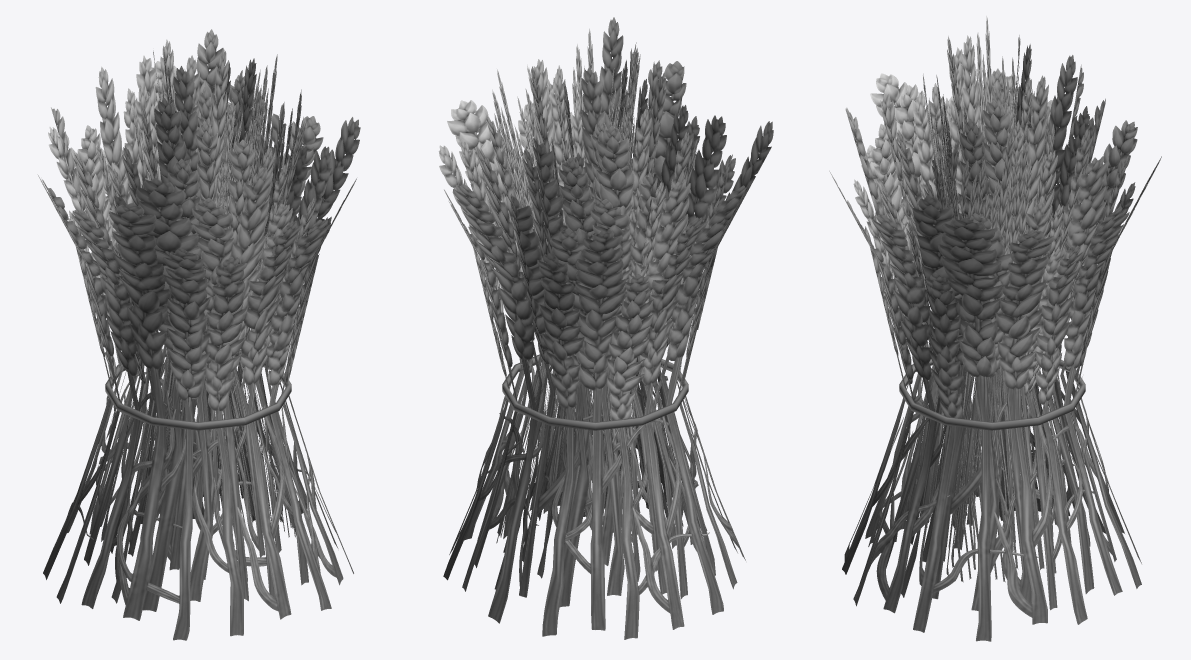
The model's file is Wheat01.fbx.
The picture shows the model from 3 angles, left to right: view 1: azimuth 30°, elevation 25°; view 2: azimuth 150°, elevation 25°; view 3: azimuth 270°, elevation 25°; orthographic projection.
Visible parts, largest first — view 1: Wheat01_LOD0; view 2: Wheat01_LOD0; view 3: Wheat01_LOD0.
Boxes of the visible parts, x1,y1,x2,y2 form: Wheat01_LOD0: (37,29,360,640); Wheat01_LOD0: (438,17,773,639); Wheat01_LOD0: (829,16,1161,641).
Size of what is drawn, in the model's own units: 0.5343 by 0.873 by 0.5343.
